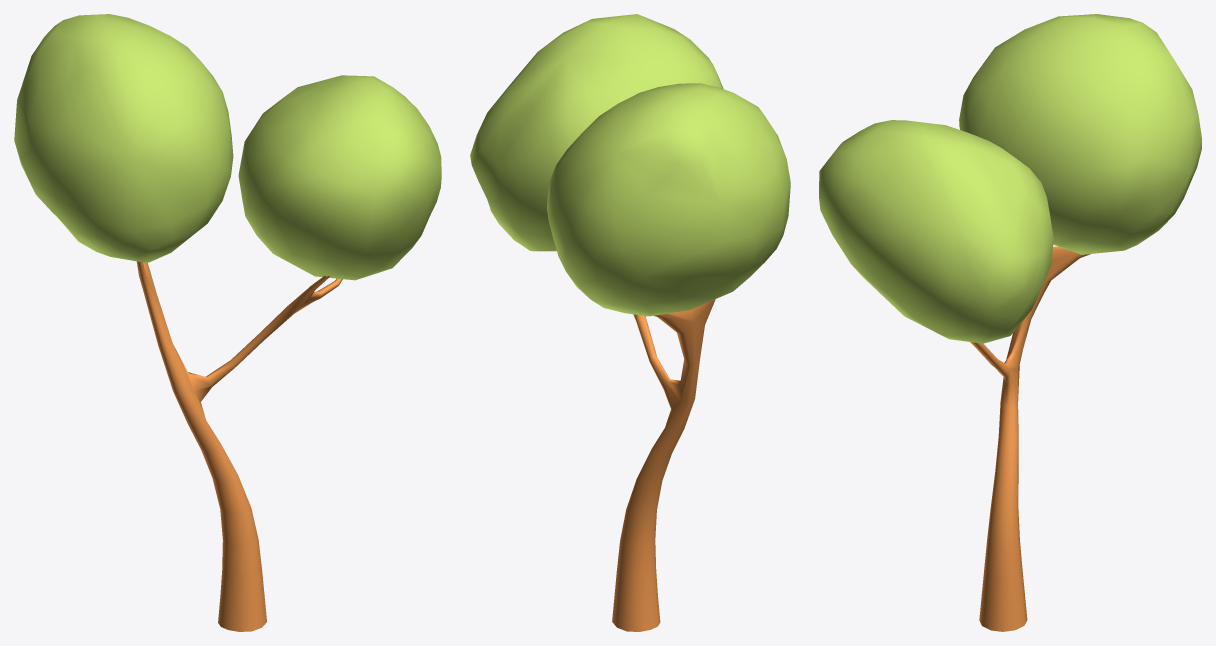
Rendered from Tree_B.fbx.
3 views of the same model, side by side, from view 1: azimuth 30°, elevation 25°; view 2: azimuth 150°, elevation 25°; view 3: azimuth 270°, elevation 25° (orthographic). The views are drawn at different scales.
Visible parts, largest first — view 1: Oak_Tree_m_06; view 2: Oak_Tree_m_06; view 3: Oak_Tree_m_06.
Boxes of the visible parts, left/top/right/bottom form: Oak_Tree_m_06: left=14, top=14, right=441, bottom=631; Oak_Tree_m_06: left=470, top=14, right=790, bottom=631; Oak_Tree_m_06: left=819, top=14, right=1201, bottom=631.
Bounding box in the file's own units: 475 × 783 × 485.
